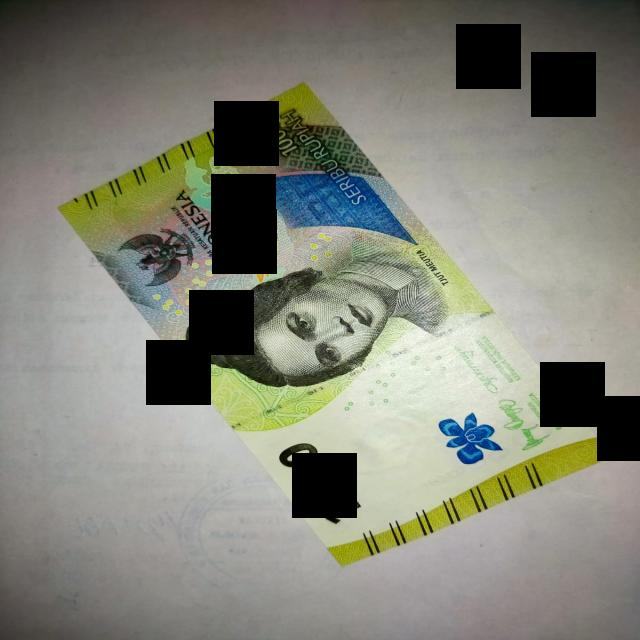seribu rupiah: (60, 85, 610, 564)
